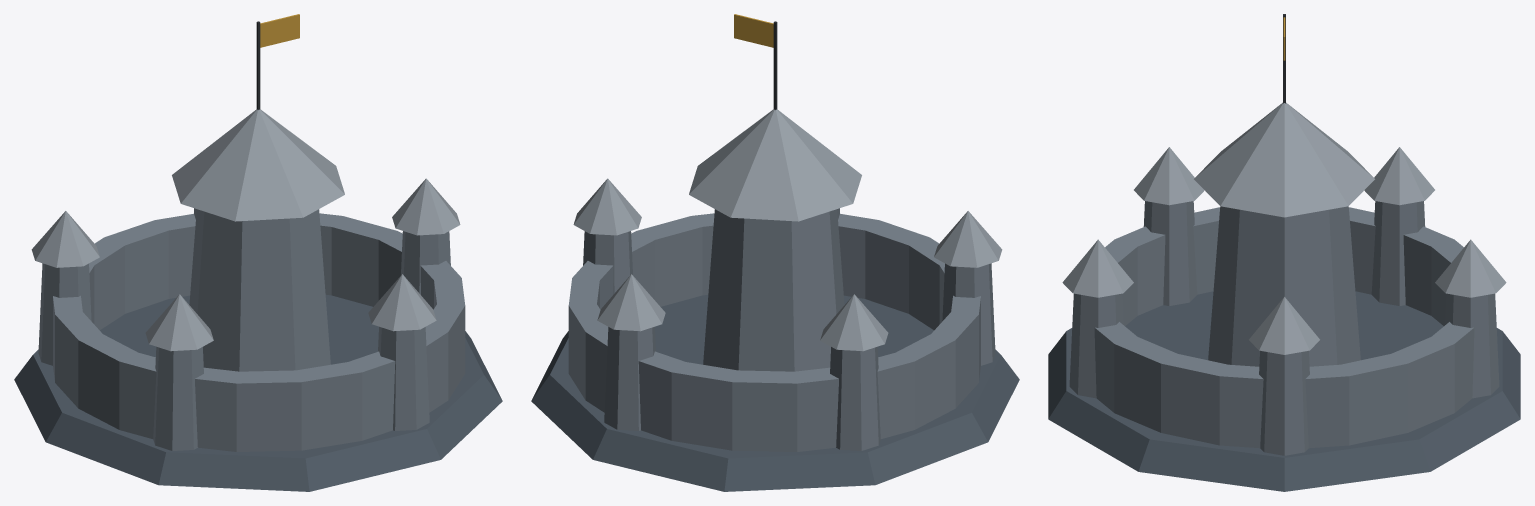
Rendered from fortress.glb.
The picture shows the model from 3 angles, left to right: view 1: azimuth 30°, elevation 25°; view 2: azimuth 150°, elevation 25°; view 3: azimuth 270°, elevation 25°; orthographic projection.
Visible parts, largest first — view 1: fortress; view 2: fortress; view 3: fortress.
Part boxes in pixels (x1,y1,x2,y2): fortress: (14,14,502,491); fortress: (531,14,1019,491); fortress: (1048,14,1520,491).
Size of the model in its own units: 10.4 by 8.6 by 9.89.
